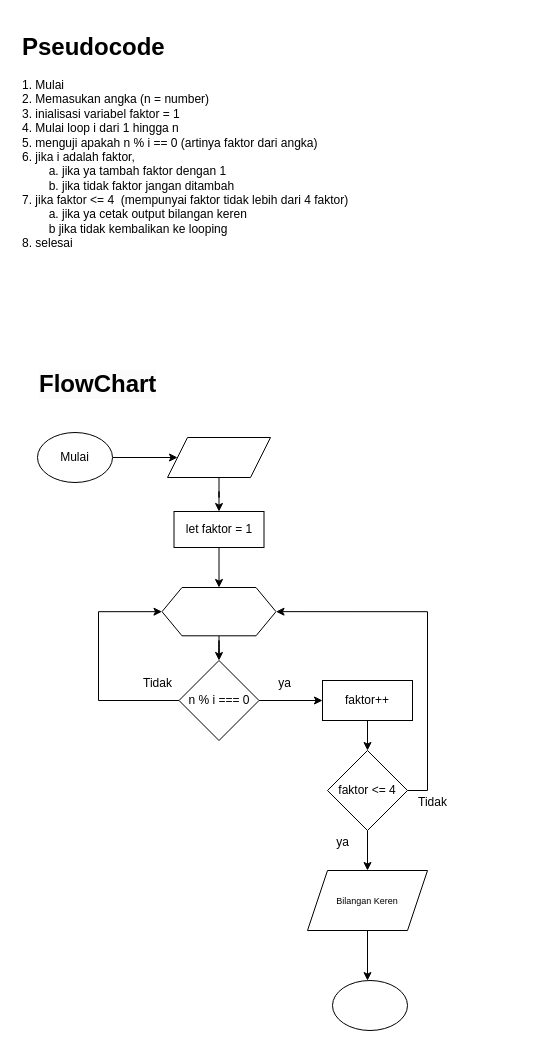
The diagram is 551 pixels wide and 1048 high, and some of its shapes have lost their labels. Here are the shapes that lost their labels. From the top down, the centre of each, then its label:
point (218, 457): faktor = 1 n = number
point (218, 611): for i = 1 i < n i++
point (370, 1005): Selesai
